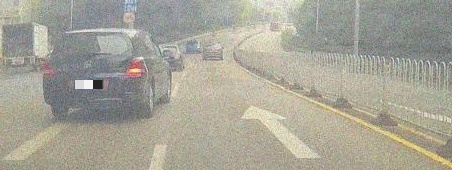L_light: (43, 61, 55, 79)
R_light: (125, 59, 145, 78)
T_light: (84, 32, 104, 36)
day-right: (42, 29, 147, 116)
plate_1: (75, 80, 103, 89)
